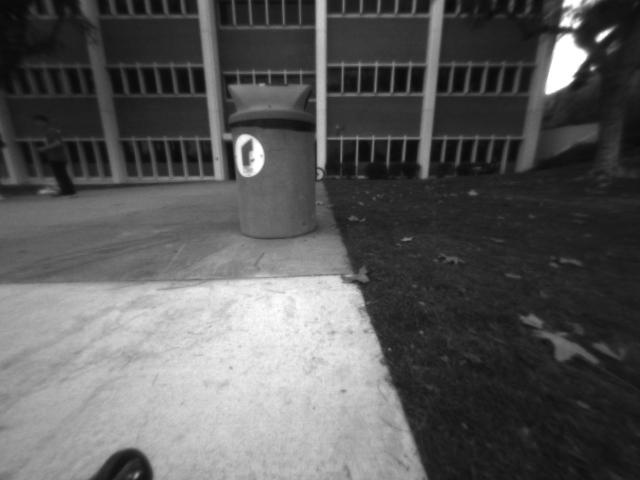trashcan: (220, 76, 330, 244)
